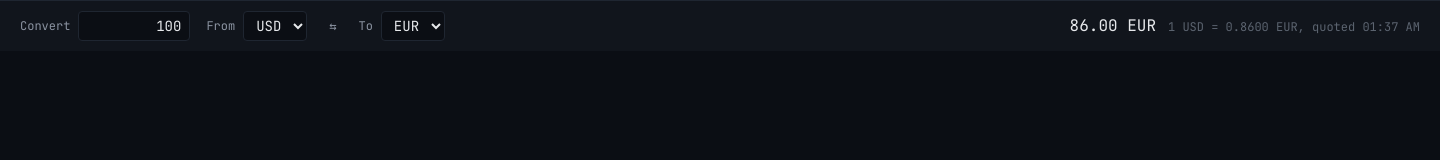
Test: Converter › swaps the two currencies
expect the text "86.00 EUR" is shown: met, box x1=1070 y1=14 x2=1156 y2=38
Click the button named "Swap currencies" at (333, 26), box x1=323 y1=14 x2=342 y2=38
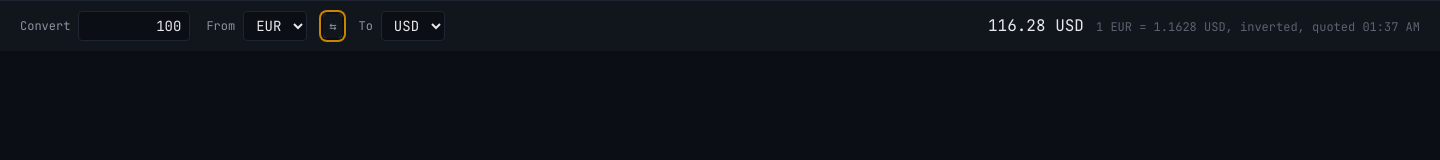
expect the dropdown labelled "From" shows "EUR": met, box x1=243 y1=11 x2=307 y2=41
expect the dropdown labelled "To" shows "USD": met, box x1=381 y1=11 x2=445 y2=41
expect the text "1 EUR = 1.1628 USD, inverted, quoted 01:37 AM" is shown: met, box x1=1096 y1=19 x2=1420 y2=35
